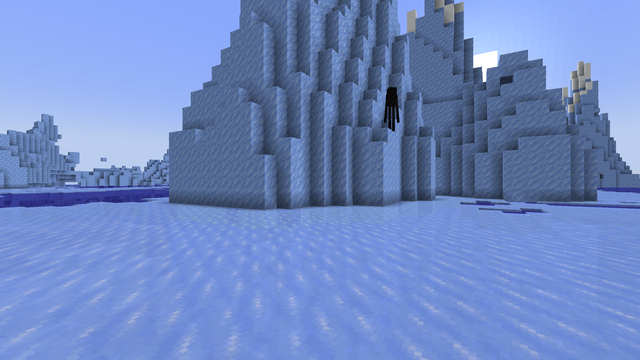endermens: (386, 85, 397, 130)
